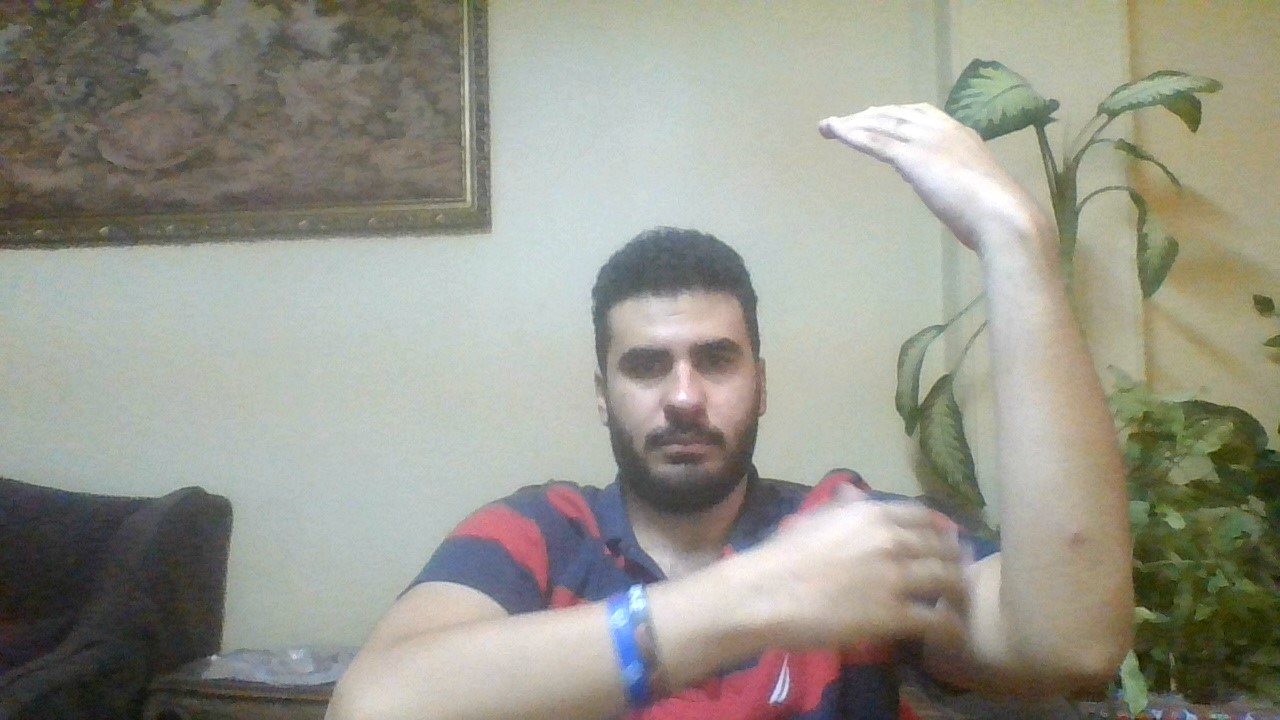morning: (752, 85, 1133, 695)
